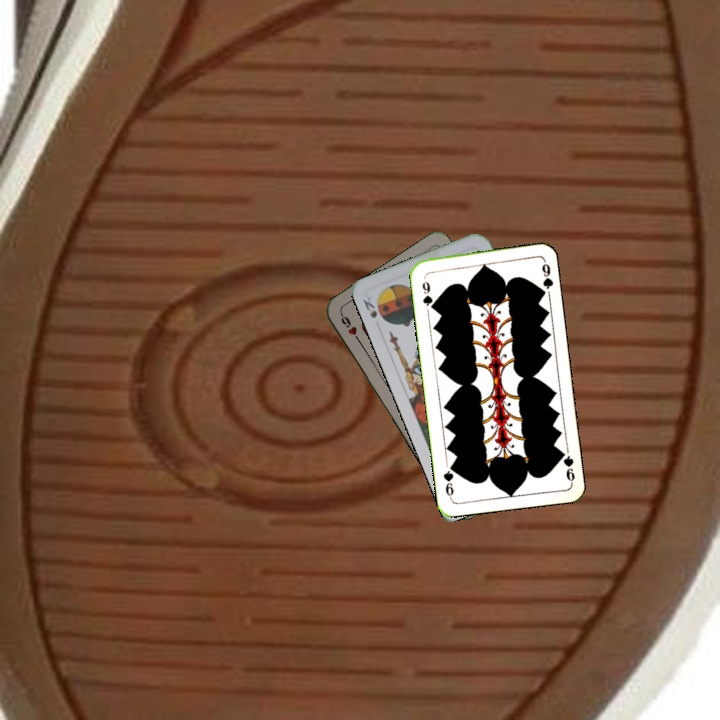G9: (556, 446, 577, 486), (418, 277, 437, 312)
H9: (337, 310, 364, 346)
SK: (359, 293, 380, 321)
